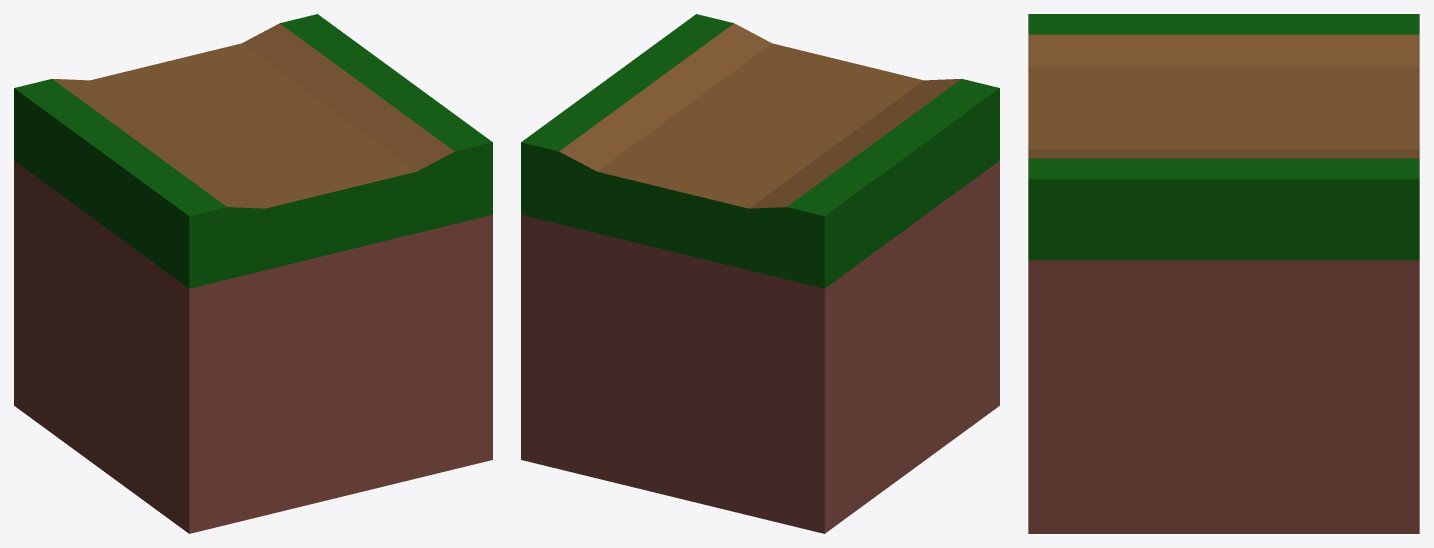
File: Plain_Grass_Path_Straight.glb
3 views of the same model, side by side, from view 1: azimuth 30°, elevation 25°; view 2: azimuth 150°, elevation 25°; view 3: azimuth 270°, elevation 25° (orthographic). The views are drawn at different scales.
Parts seen in each view (by area): view 1: Plain Grass Path Straight; view 2: Plain Grass Path Straight; view 3: Plain Grass Path Straight.
Part boxes in pixels (x1,y1,x2,y2): Plain Grass Path Straight: (14, 14, 492, 533); Plain Grass Path Straight: (521, 14, 999, 533); Plain Grass Path Straight: (1028, 14, 1419, 533).
Size of the model in its own units: 2 by 2 by 2.
1 material, 1 textured.
